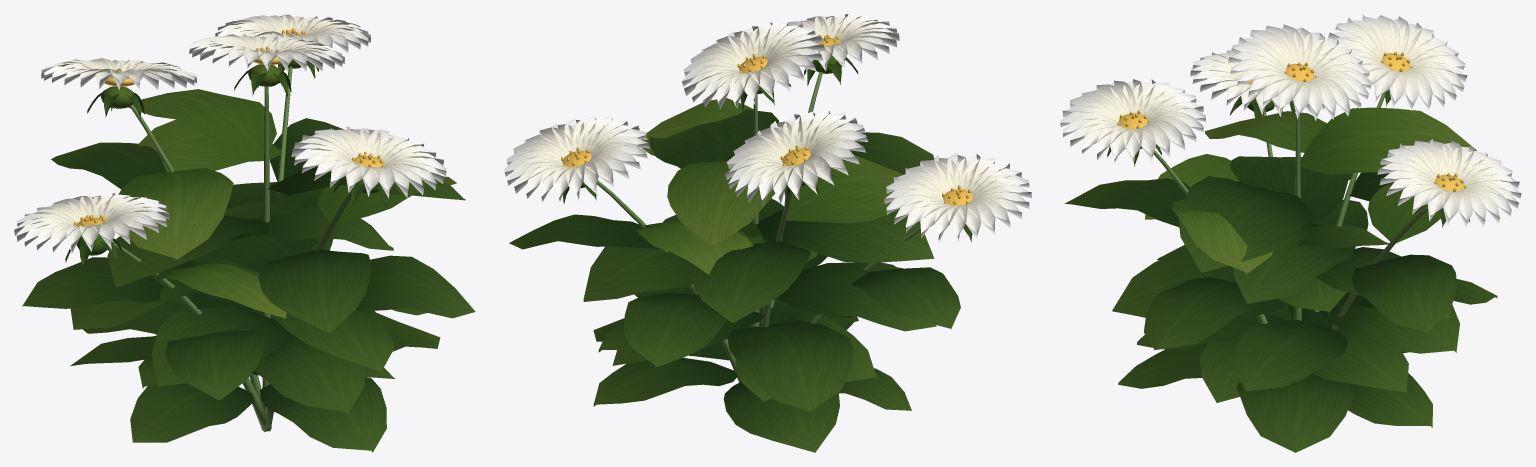
File: daisy-10-lod.glb
3 renders of one model, left to right at view 1: azimuth 30°, elevation 25°; view 2: azimuth 150°, elevation 25°; view 3: azimuth 270°, elevation 25°, orthographic. The views are drawn at different scales.
Visible parts, largest first — view 1: daisy_stage_10_leaf_veins.019, daisy_stage_10_daisy_petal.019, daisy_stage_10_young_leaf.019, daisy_stage_10_stem_fibres.019, daisy_stage_10_pollen_granules.019; view 2: daisy_stage_10_leaf_veins.019, daisy_stage_10_daisy_petal.019, daisy_stage_10_young_leaf.019, daisy_stage_10_stem_fibres.019, daisy_stage_10_pollen_granules.019; view 3: daisy_stage_10_leaf_veins.019, daisy_stage_10_daisy_petal.019, daisy_stage_10_young_leaf.019, daisy_stage_10_stem_fibres.019, daisy_stage_10_pollen_granules.019.
Boxes of the visible parts, x1,y1,x2,y2 form: daisy_stage_10_leaf_veins.019: [22, 60, 475, 452]; daisy_stage_10_daisy_petal.019: [14, 14, 446, 253]; daisy_stage_10_young_leaf.019: [76, 59, 456, 318]; daisy_stage_10_stem_fibres.019: [113, 66, 351, 432]; daisy_stage_10_pollen_granules.019: [74, 28, 384, 226]; daisy_stage_10_leaf_veins.019: [509, 57, 972, 452]; daisy_stage_10_daisy_petal.019: [504, 14, 1031, 241]; daisy_stage_10_young_leaf.019: [580, 55, 920, 274]; daisy_stage_10_stem_fibres.019: [597, 72, 920, 382]; daisy_stage_10_pollen_granules.019: [561, 34, 972, 205]; daisy_stage_10_leaf_veins.019: [1064, 89, 1515, 452]; daisy_stage_10_daisy_petal.019: [1060, 14, 1521, 227]; daisy_stage_10_young_leaf.019: [1125, 98, 1476, 274]; daisy_stage_10_stem_fibres.019: [1153, 92, 1428, 330]; daisy_stage_10_pollen_granules.019: [1117, 51, 1466, 191].
Size of the model in its own units: 0.4146 by 0.3498 by 0.391.
5 materials, 3 textured.
